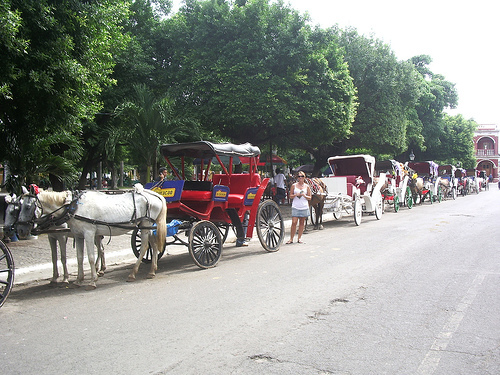horse: (14, 182, 169, 288), (1, 190, 109, 284)
